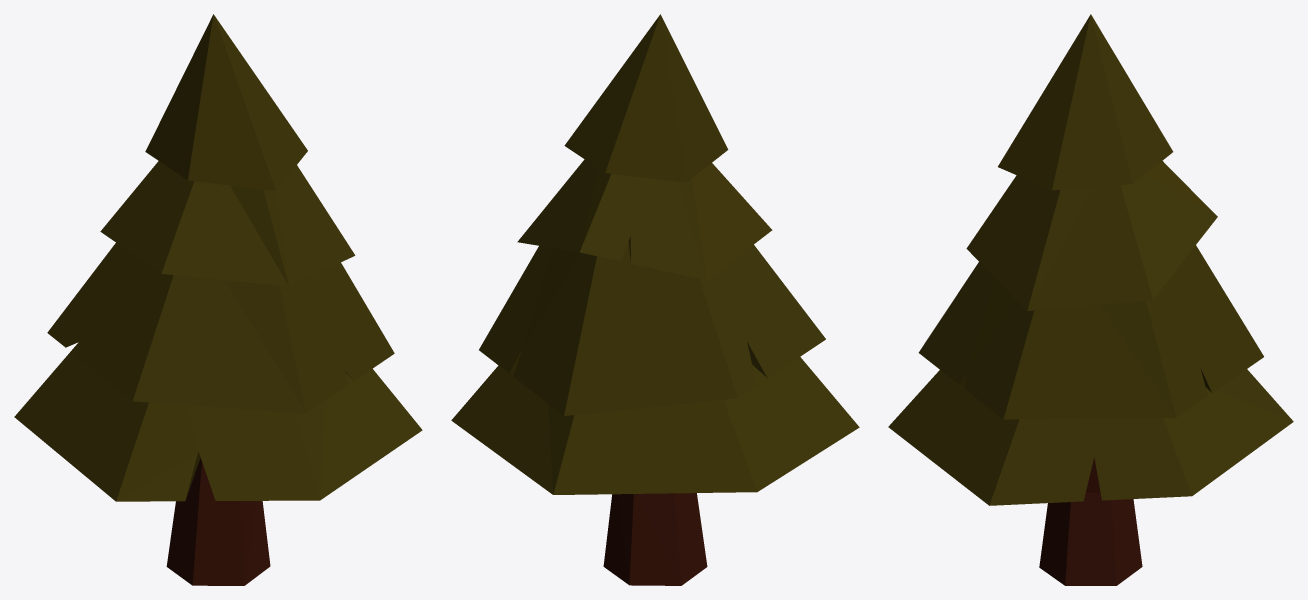
Rendered from PineTree3.fbx.glb.
3 renders of one model, left to right at view 1: azimuth 30°, elevation 25°; view 2: azimuth 150°, elevation 25°; view 3: azimuth 270°, elevation 25°, orthographic.
Visible parts, largest first — view 1: PineTree3; view 2: PineTree3; view 3: PineTree3.
Boxes of the visible parts, x1,y1,x2,y2 form: PineTree3: (14,14,422,585); PineTree3: (451,14,859,585); PineTree3: (888,14,1293,585).
Bounding box in the file's own units: 237 × 409 × 273.
